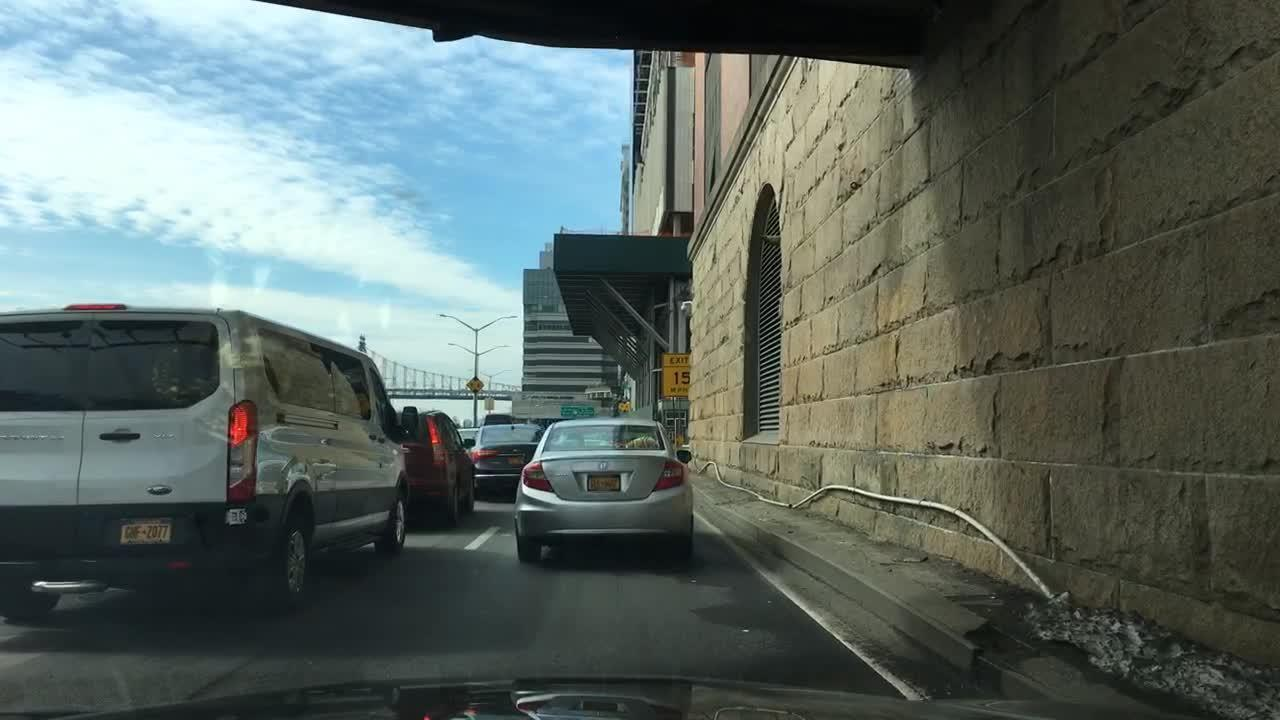ford: (146, 485, 172, 495)
